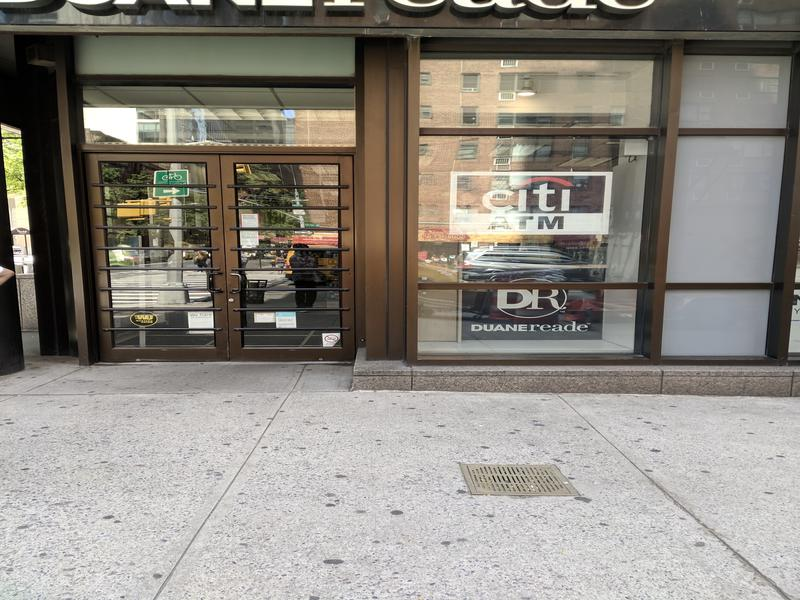double_door: (77, 144, 361, 364)
